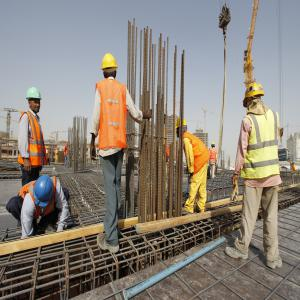blue: (35, 177, 55, 208), (58, 148, 60, 152), (293, 162, 295, 166)
red: (68, 143, 70, 147)
white: (27, 88, 42, 114)
yellow: (244, 84, 265, 112), (102, 54, 118, 79), (176, 117, 188, 139), (212, 142, 216, 149), (47, 147, 49, 151)
